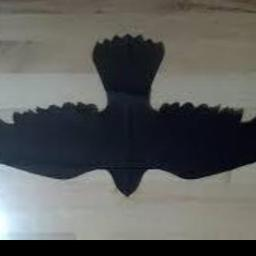Crow: (0, 35, 256, 198)
